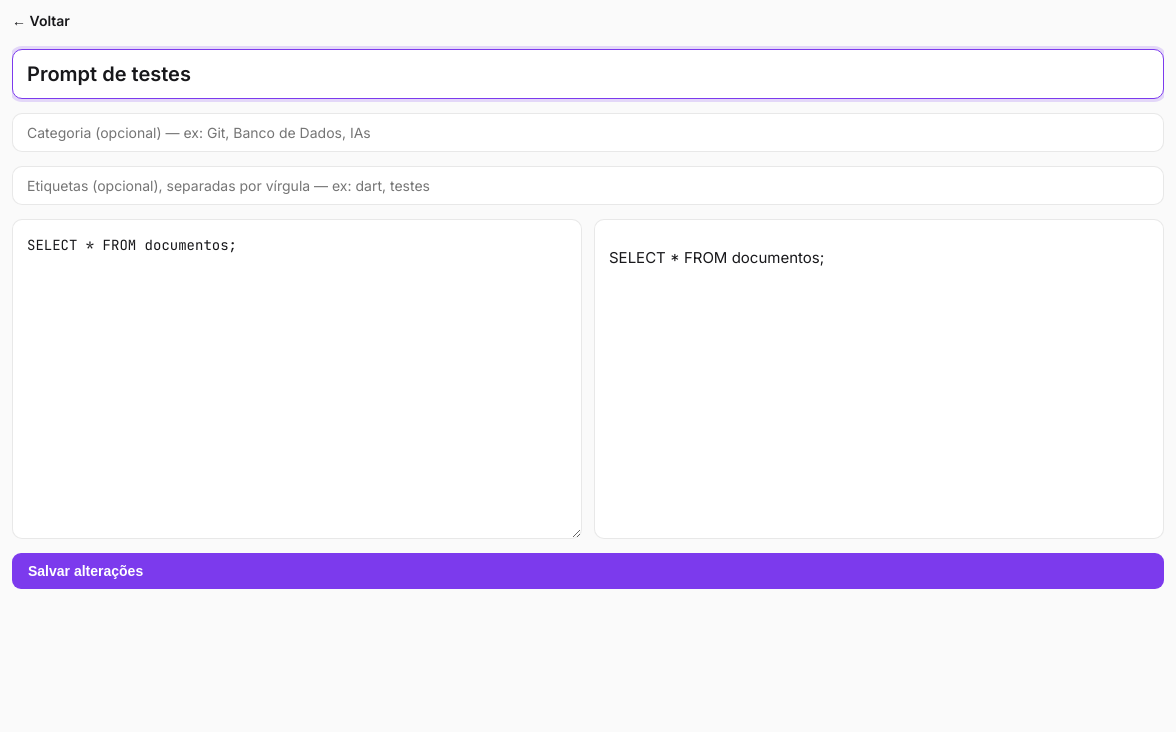
it: FormularioDocumento › CT-38: (editar) exibe o erro devolvido ao salvar
Step 1. Click the button "Salvar alterações" → point(86, 571), box x1=12 y1=553 x2=1164 y2=589
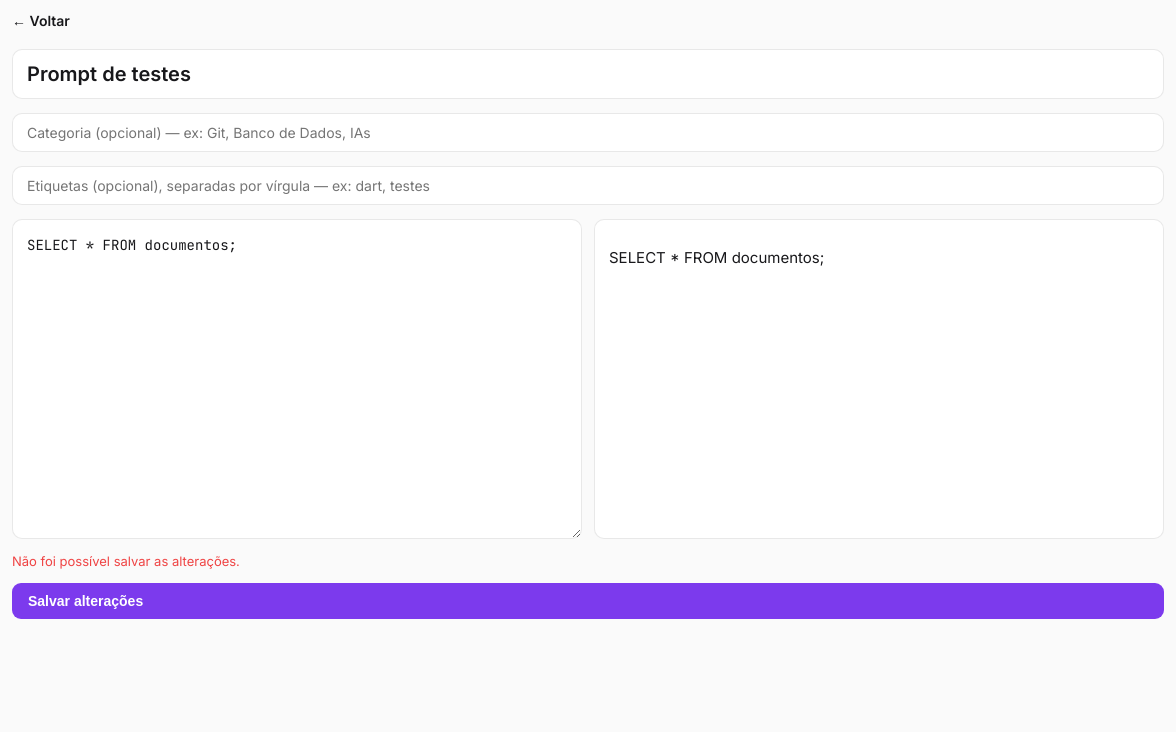
Now the message reads "Não foi possível salvar as alterações.", box x1=12 y1=553 x2=240 y2=569
